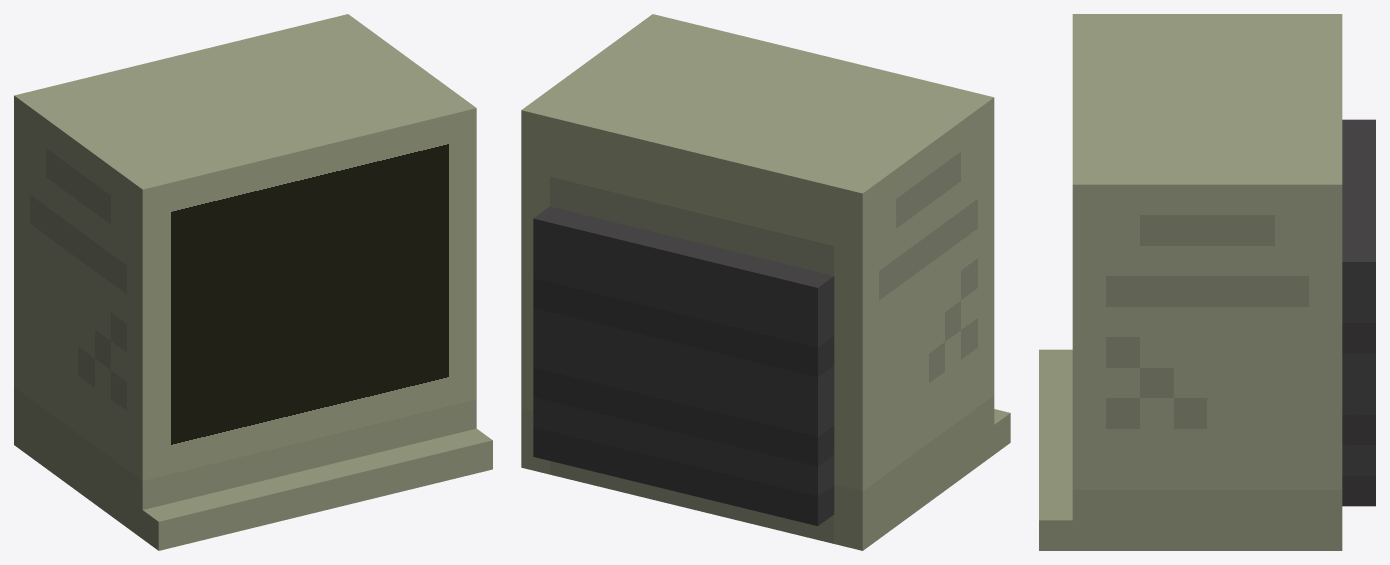
Rendered from monitor.glb.
The picture shows the model from 3 angles, left to right: view 1: azimuth 30°, elevation 25°; view 2: azimuth 150°, elevation 25°; view 3: azimuth 270°, elevation 25°; orthographic projection. The views are drawn at different scales.
Visible parts, largest first — view 1: computer; view 2: computer; view 3: computer.
Boxes of the visible parts, x1,y1,x2,y2 form: computer: (14, 14, 492, 550); computer: (521, 14, 1010, 550); computer: (1039, 14, 1375, 550).
Bounding box in the file's own units: 0.75 × 0.75 × 0.625.
